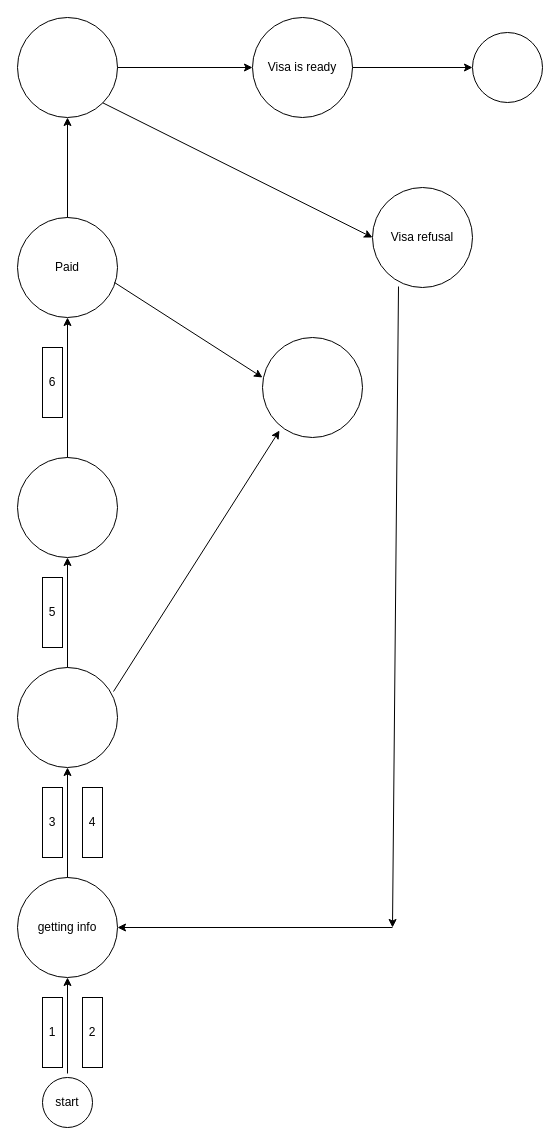
Image size: 560x1145. Some labels were removed from this diagram. The box of each missing label's shape, as (x1, y1, x2, y2) in pixels:
Canceled via user: (262, 336, 362, 438)
Cheking documents: (16, 456, 118, 558)
Documents are ready: (16, 666, 118, 768)
end: (472, 32, 542, 102)
Visa decision: (16, 16, 118, 118)
